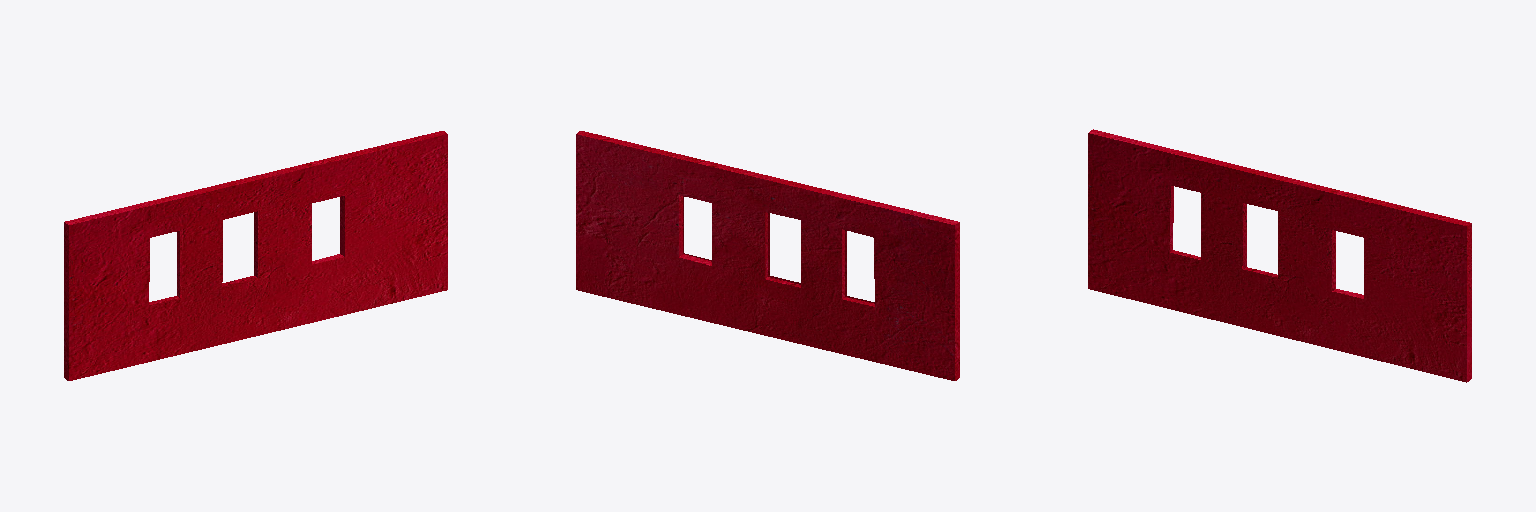
3 renders of one model, left to right at view 1: azimuth 30°, elevation 25°; view 2: azimuth 150°, elevation 25°; view 3: azimuth 330°, elevation 25°, orthographic.
Parts seen in each view (by area): view 1: Plane.026_Material.010; view 2: Plane.026_Material.010; view 3: Plane.026_Material.010.
Part boxes in pixels (left/top/right/bottom): Plane.026_Material.010: left=64, top=131, right=447, bottom=380; Plane.026_Material.010: left=576, top=131, right=959, bottom=380; Plane.026_Material.010: left=1088, top=129, right=1471, bottom=382.
Size of the model in its own units: 5.09 by 2.01 by 0.1148.
1 materials, 1 textured.